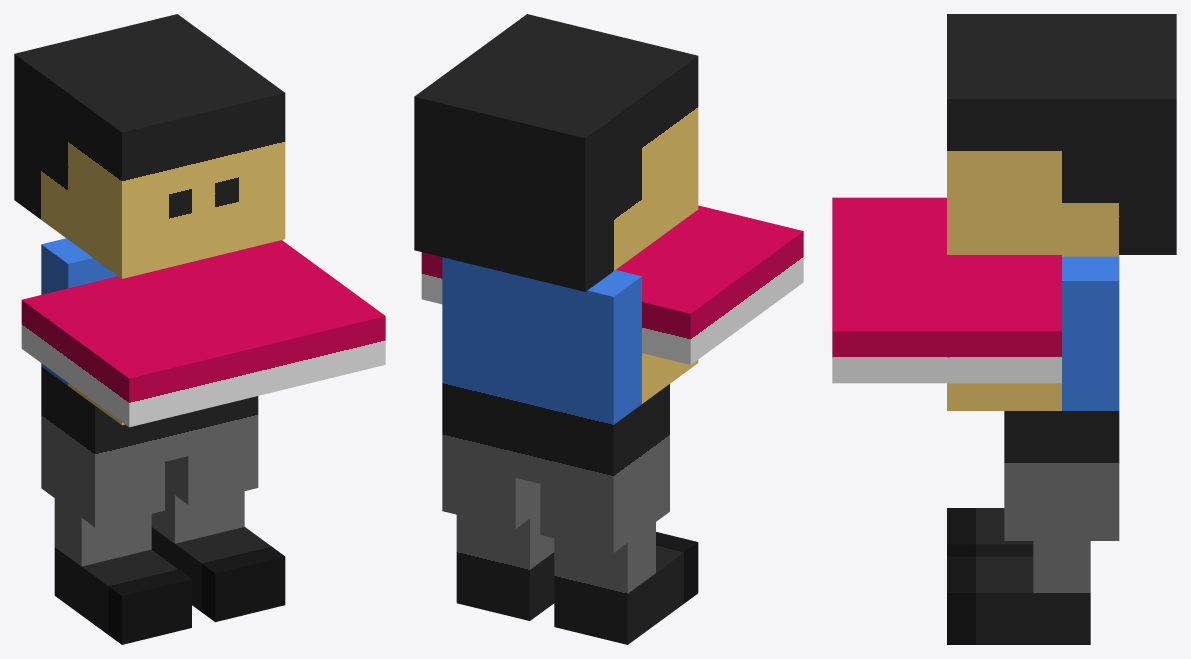
The model's file is NewMan_07.dae.
The picture shows the model from 3 angles, left to right: view 1: azimuth 30°, elevation 25°; view 2: azimuth 150°, elevation 25°; view 3: azimuth 270°, elevation 25°; orthographic projection. The views are drawn at different scales.
Parts seen in each view (by area): view 1: pizza_men_29; view 2: pizza_men_29; view 3: pizza_men_29.
Boxes of the visible parts, box(x1,y1,x2,y2) form: pizza_men_29: box(14, 14, 385, 644); pizza_men_29: box(414, 14, 803, 644); pizza_men_29: box(832, 14, 1176, 644).
Size of the model in its own units: 11 by 21 by 12.
Materials: 1 (1 with a texture image).
